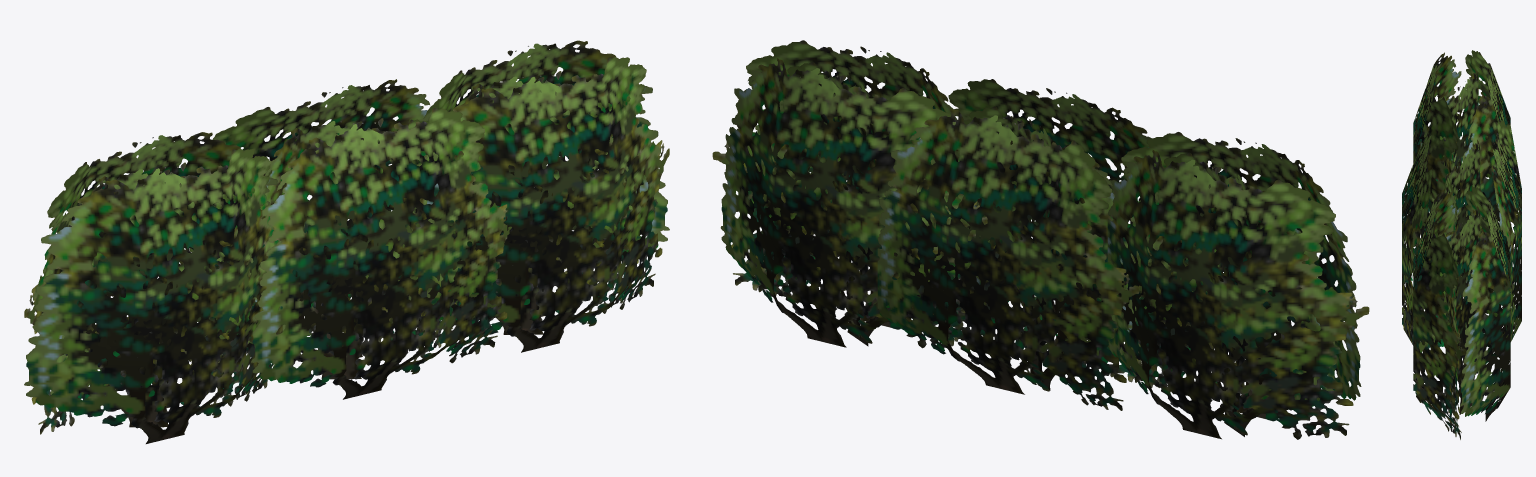
The model's file is tree_03b.fbx.
The picture shows the model from 3 angles, left to right: view 1: azimuth 30°, elevation 25°; view 2: azimuth 150°, elevation 25°; view 3: azimuth 270°, elevation 25°; orthographic projection. The views are drawn at different scales.
Visible parts, largest first — view 1: tree_03b; view 2: tree_03b; view 3: tree_03b.
Boxes of the visible parts, x1,y1,x2,y2 form: tree_03b: (24,40,669,443); tree_03b: (712,40,1369,439); tree_03b: (1402,50,1521,439).
Size of the model in its own units: 6.36 by 2.62 by 1.35.
